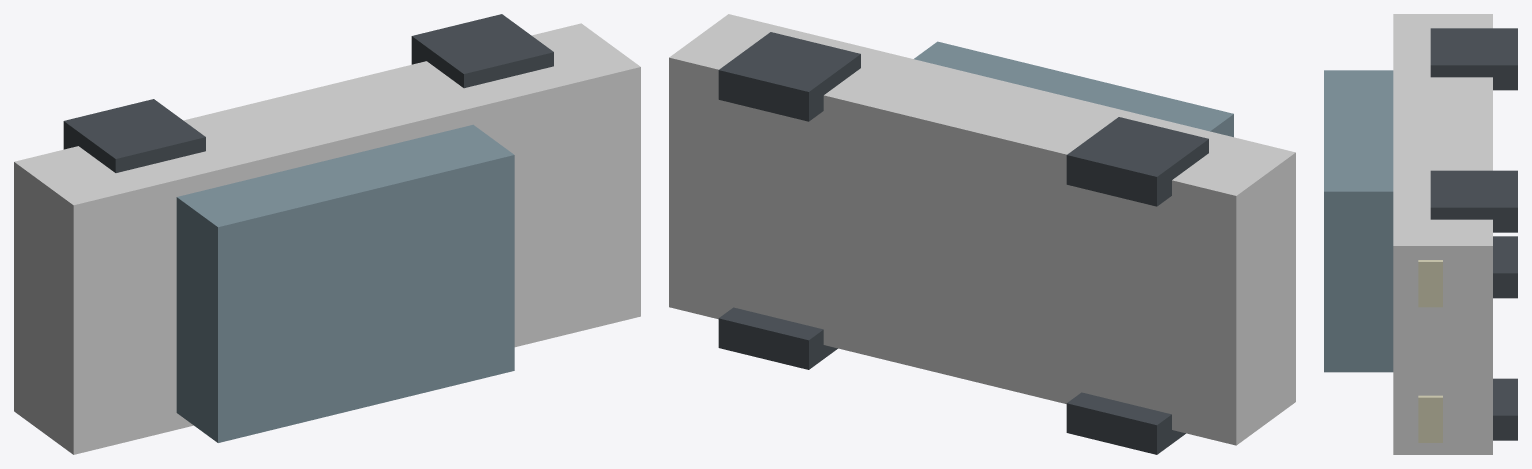
Rendered from car.gltf.
The picture shows the model from 3 angles, left to right: view 1: azimuth 30°, elevation 25°; view 2: azimuth 150°, elevation 25°; view 3: azimuth 270°, elevation 25°; orthographic projection. The views are drawn at different scales.
Bounding box in the file's own units: 4.44 × 2.06 × 1.56.
